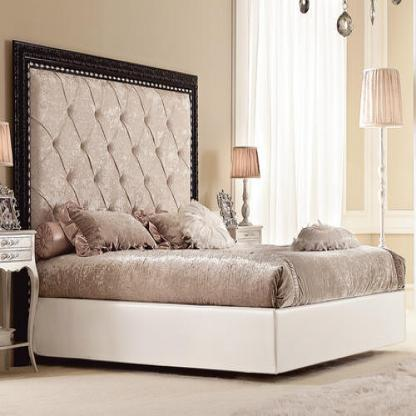Bed: (13, 35, 408, 354)
Curtains: (225, 0, 352, 244)
Lamp: (358, 66, 402, 250), (1, 119, 30, 229), (230, 144, 258, 224)
Nightstand: (1, 226, 42, 386)
